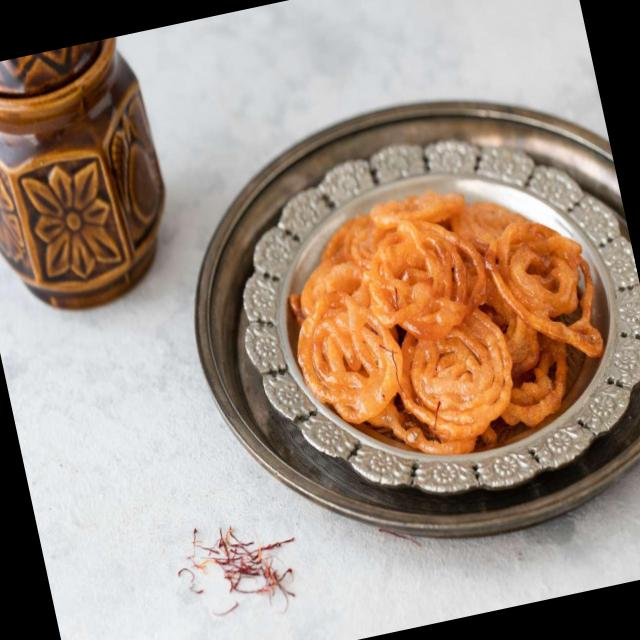jalebi: (273, 164, 627, 483)
